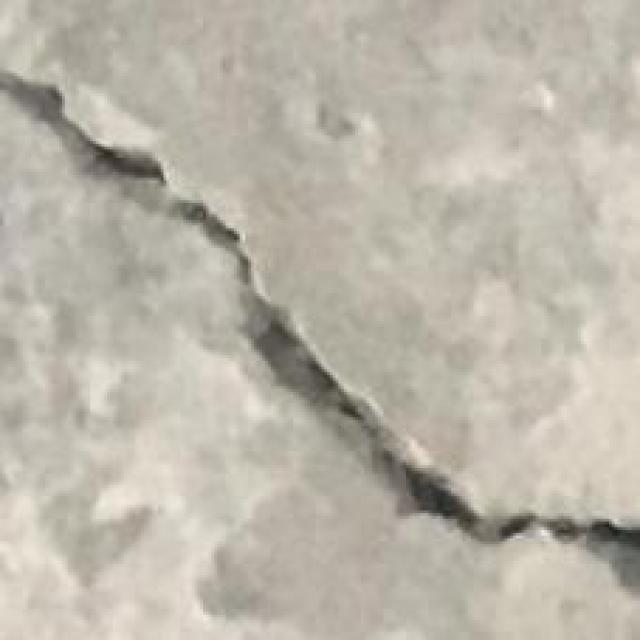Diagonal: (0, 63, 638, 590)
